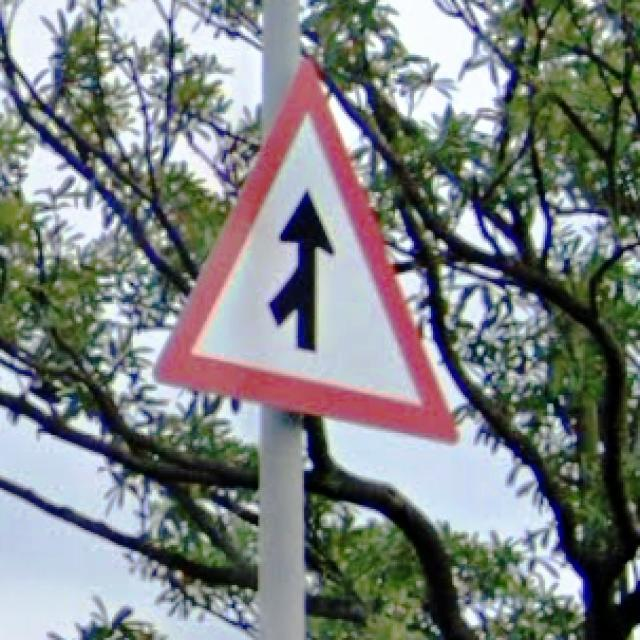leftmerge: (152, 59, 456, 446)
